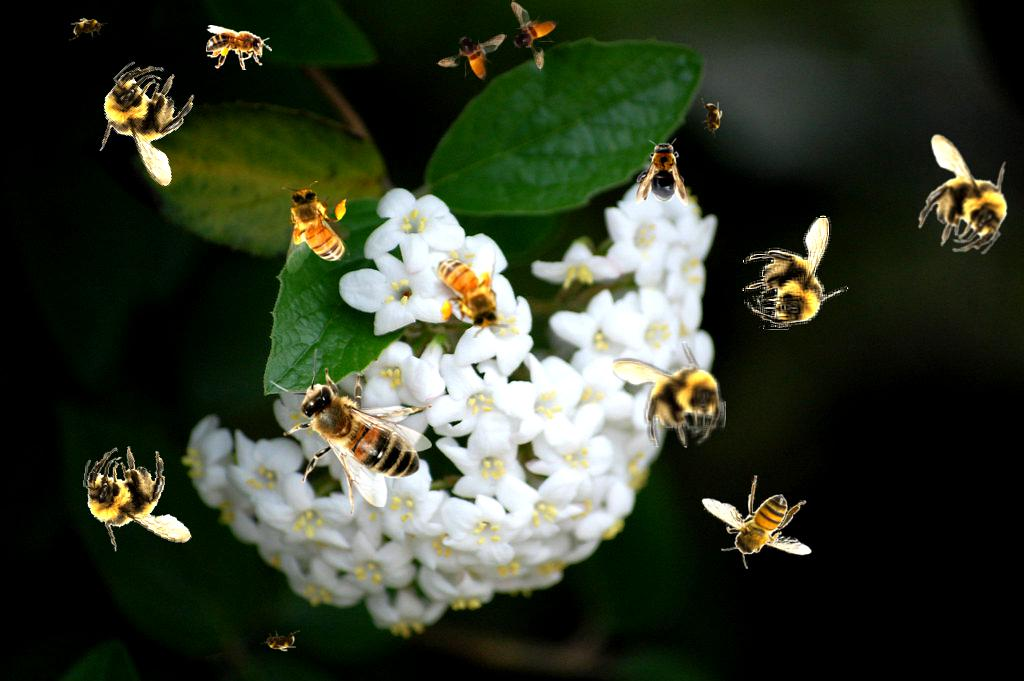Bee: (270, 349, 432, 516), (70, 46, 227, 203), (882, 115, 1024, 272), (74, 440, 203, 563), (742, 215, 849, 330), (611, 341, 726, 448), (701, 475, 812, 569), (429, 240, 509, 341), (282, 181, 350, 274), (436, 32, 507, 82), (509, 0, 559, 71), (636, 138, 688, 206), (206, 25, 272, 70), (66, 14, 110, 42), (700, 97, 724, 139), (260, 630, 300, 652)
